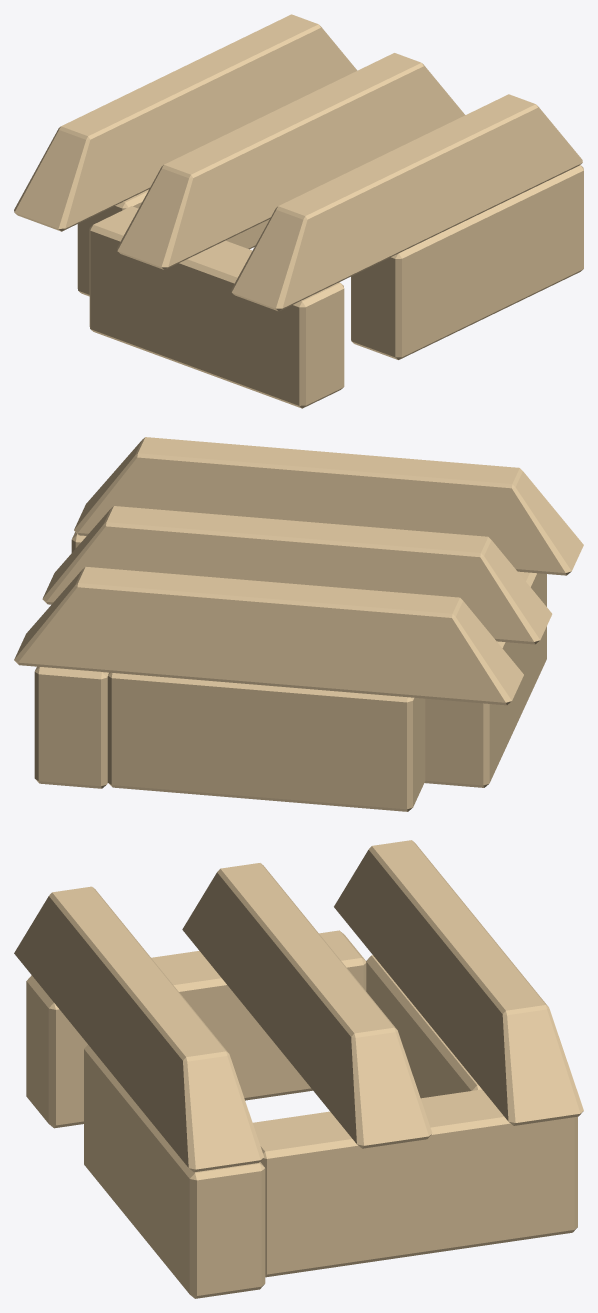
3 views of the same model, one above another, from view 1: azimuth 30°, elevation 25°; view 2: azimuth 150°, elevation 25°; view 3: azimuth 270°, elevation 25° (orthographic). The views are drawn at different scales.
Visible parts, largest first — view 1: CUBE_ROOF, CUBE_ROOF.037, CUBE_ROOF.014, CUBE_LON, CUBE_LON.052, CUBE_LON.054; view 2: CUBE_ROOF.014, CUBE_LON.054, CUBE_ROOF, CUBE_ROOF.037, CUBE_LON, CUBE_LON.053; view 3: CUBE_LON.053, CUBE_ROOF.014, CUBE_ROOF.037, CUBE_ROOF, CUBE_LON.052, CUBE_LON, CUBE_LON.054.
Part boxes in pixels (bbox=[...]): CUBE_ROOF: bbox=[231, 94, 582, 311]; CUBE_ROOF.037: bbox=[117, 53, 465, 269]; CUBE_ROOF.014: bbox=[14, 14, 357, 231]; CUBE_LON: bbox=[89, 206, 344, 408]; CUBE_LON.052: bbox=[351, 165, 583, 359]; CUBE_LON.054: bbox=[77, 189, 269, 296]; CUBE_ROOF.014: bbox=[14, 567, 523, 705]; CUBE_LON.054: bbox=[108, 672, 425, 811]; CUBE_ROOF: bbox=[74, 437, 583, 575]; CUBE_ROOF.037: bbox=[42, 506, 552, 644]; CUBE_LON: bbox=[424, 571, 546, 787]; CUBE_LON.053: bbox=[34, 666, 108, 788]; CUBE_LON.053: bbox=[253, 1089, 577, 1277]; CUBE_ROOF.014: bbox=[334, 840, 583, 1125]; CUBE_ROOF.037: bbox=[182, 863, 432, 1148]; CUBE_ROOF: bbox=[14, 886, 263, 1172]; CUBE_LON.052: bbox=[84, 1045, 265, 1298]; CUBE_LON: bbox=[26, 930, 366, 1128]; CUBE_LON.054: bbox=[366, 955, 481, 1098].
Bounding box in the file's own units: 17.2 × 6.26 × 15.02.
